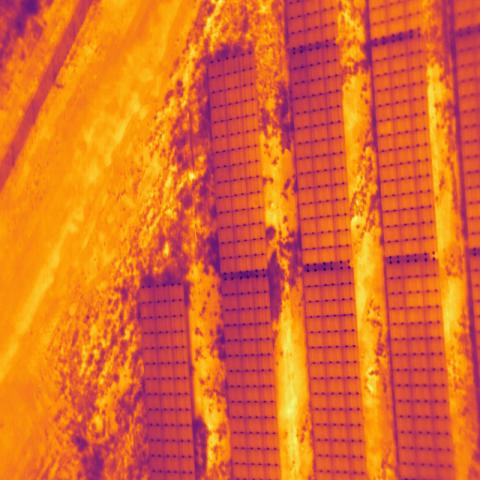fault: (376, 120, 394, 138)
